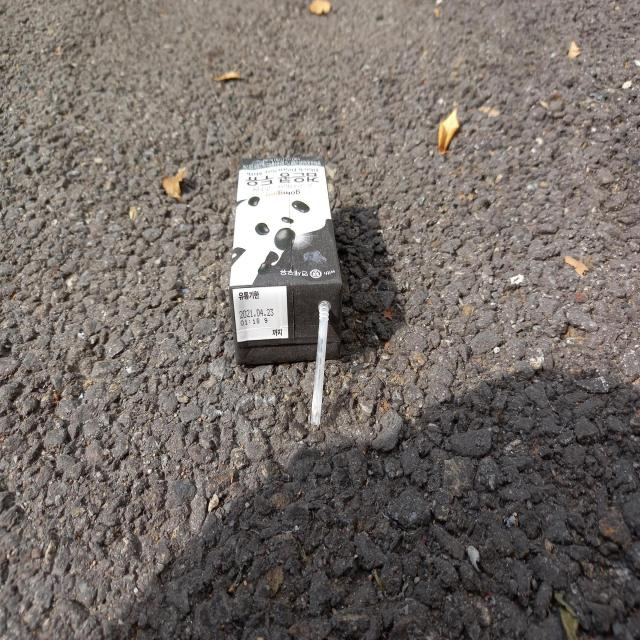paperpack: (229, 156, 342, 364)
